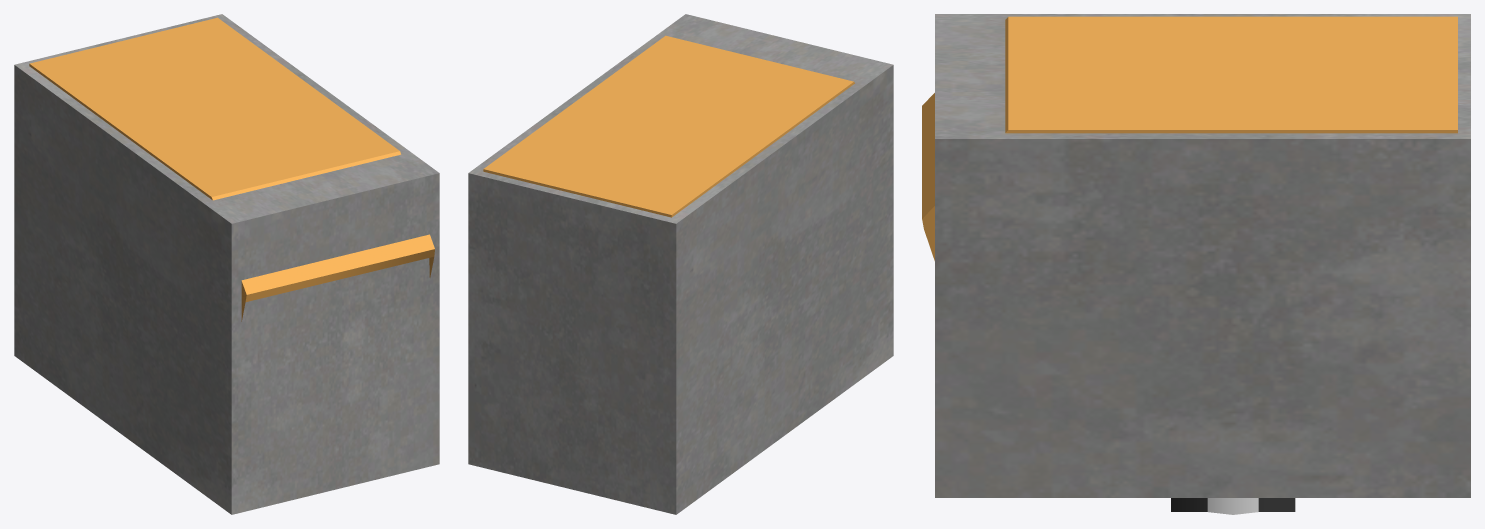
Rendered from s_camera_speed2.dae.
3 views of the same model, side by side, from view 1: azimuth 30°, elevation 25°; view 2: azimuth 150°, elevation 25°; view 3: azimuth 270°, elevation 25° (orthographic). The views are drawn at different scales.
Parts seen in each view (by area): view 1: s_camera_speed2_Colmesh-1, s_camera_speed2_a100; view 2: s_camera_speed2_Colmesh-1, s_camera_speed2_a100; view 3: s_camera_speed2_Colmesh-1, s_camera_speed2_a100, s_camera_speed2_a015.
Boxes of the visible parts, bbox=[...] form: s_camera_speed2_Colmesh-1: bbox=[14, 14, 439, 514]; s_camera_speed2_a100: bbox=[29, 17, 434, 321]; s_camera_speed2_Colmesh-1: bbox=[468, 14, 893, 514]; s_camera_speed2_a100: bbox=[483, 35, 854, 217]; s_camera_speed2_Colmesh-1: bbox=[935, 14, 1470, 497]; s_camera_speed2_a100: bbox=[922, 16, 1457, 514]; s_camera_speed2_a015: bbox=[1171, 498, 1295, 511].
Bounding box in the file's own units: 0.32 × 0.5934 × 0.492.
